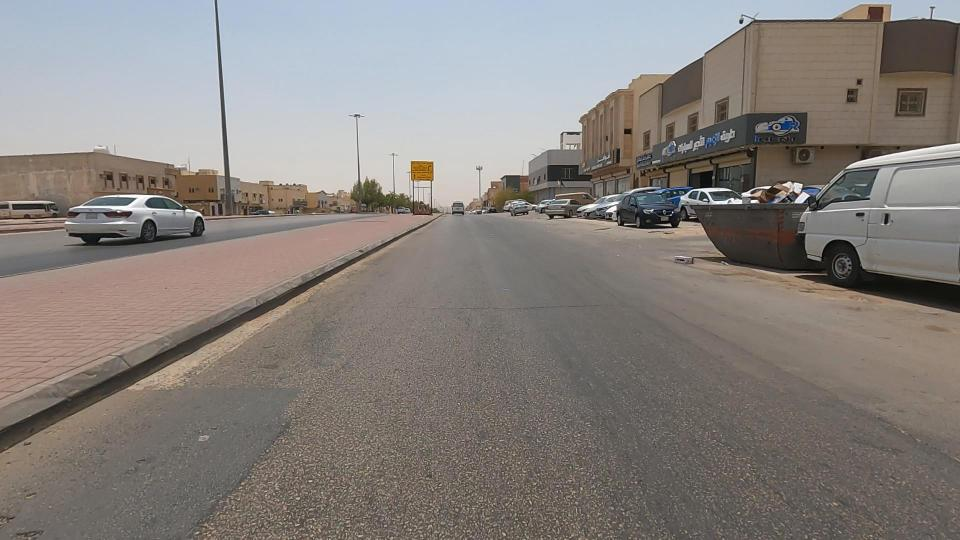GARBAGE: (708, 155, 854, 231), (631, 235, 728, 285)
